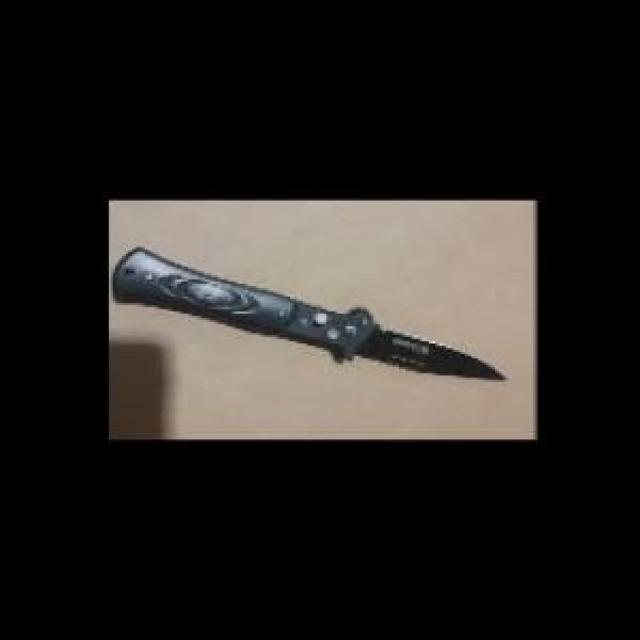knife: (107, 241, 512, 387)
